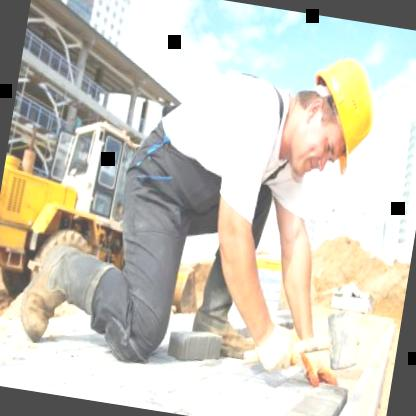helmet: (272, 39, 394, 195)
